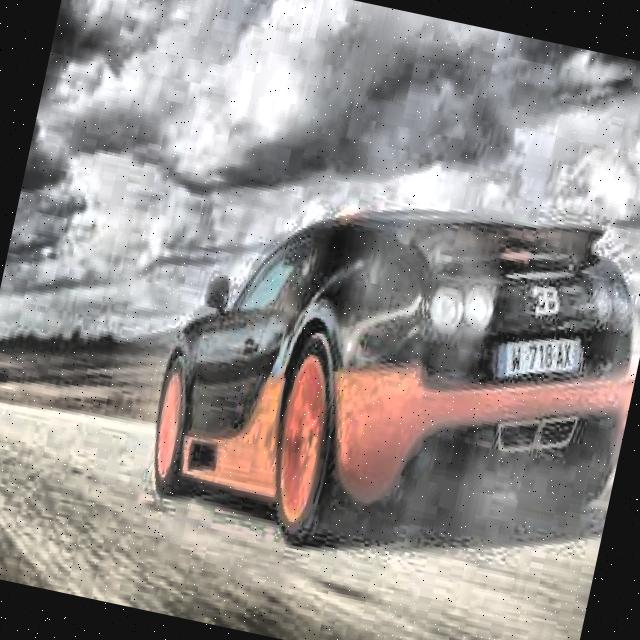license_plate: (500, 323, 579, 388)
